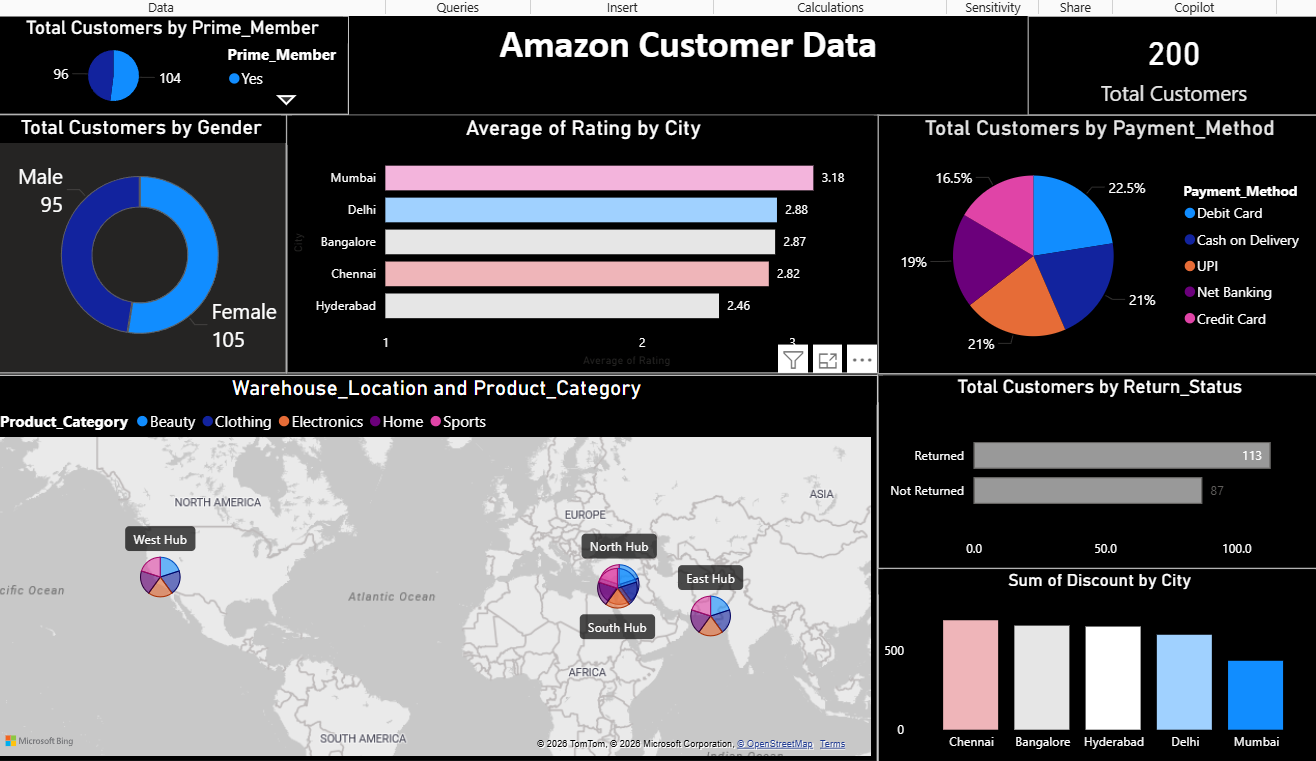

Layout of this report page (visuals, bound fields, positions):
{"tool":"powerbi","page":{"name":"Page 1","canvas":[1280,720],"ordinal":0},"visuals":[{"type":"textbox","box":[342.5,0,655,96.2],"z":0},{"type":"donutChart","fields":{"Category":["amazon_customer_dataset_200rows.Gender"],"Y":["amazon_customer_dataset_200rows.Total Customers"]},"box":[0,95.3,282.3,249.7],"z":1000},{"type":"card","fields":{"Values":["amazon_customer_dataset_200rows.Total Customers"]},"box":[997.1,0,282.9,95.7],"z":2000},{"type":"clusteredBarChart","fields":{"Category":["amazon_customer_dataset_200rows.City"],"Y":["Avg(amazon_customer_dataset_200rows.Rating)"]},"box":[282.3,95.3,571.9,249.7],"z":3000},{"type":"map","fields":{"Series":["amazon_customer_dataset_200rows.Product_Category"],"Category":["amazon_customer_dataset_200rows.Warehouse_Location"]},"box":[0,346.2,853,374],"z":4000},{"type":"pieChart","fields":{"Category":["amazon_customer_dataset_200rows.Payment_Method","amazon_customer_dataset_200rows.City"],"Y":["amazon_customer_dataset_200rows.Total Customers"]},"box":[852.9,95.7,427.1,250],"z":5000},{"type":"barChart","fields":{"Category":["amazon_customer_dataset_200rows.Return_Status"],"Y":["amazon_customer_dataset_200rows.Total Customers"]},"box":[853,346.2,427.1,187],"z":6000},{"type":"lineStackedColumnComboChart","fields":{"Category":["amazon_customer_dataset_200rows.City"],"Y":["Sum(amazon_customer_dataset_200rows.Discount)"]},"box":[853,533,427,187],"z":7000},{"type":"pieChart","fields":{"Y":["amazon_customer_dataset_200rows.Total Customers"],"Category":["amazon_customer_dataset_200rows.Prime_Member"]},"box":[0,0,342.5,95],"z":8000}]}

Visuals, with their boxes on the page's 1280x720 design canvas (x1, y1, x2, y2). These are canvas units, not pixel positions in the 1316x761 screenshot, which may show the page scaled, cropped or inside an application window:
textbox: bbox=[342, 0, 998, 96]
donutChart - amazon_customer_dataset_200rows.Gender x amazon_customer_dataset_200rows.Total Customers: bbox=[0, 95, 282, 345]
card - amazon_customer_dataset_200rows.Total Customers: bbox=[997, 0, 1280, 96]
clusteredBarChart - amazon_customer_dataset_200rows.City x Avg(amazon_customer_dataset_200rows.Rating): bbox=[282, 95, 854, 345]
map - amazon_customer_dataset_200rows.Product_Category x amazon_customer_dataset_200rows.Warehouse_Location: bbox=[0, 346, 853, 720]
pieChart - amazon_customer_dataset_200rows.Payment_Method x amazon_customer_dataset_200rows.City: bbox=[853, 96, 1280, 346]
barChart - amazon_customer_dataset_200rows.Return_Status x amazon_customer_dataset_200rows.Total Customers: bbox=[853, 346, 1280, 533]
lineStackedColumnComboChart - amazon_customer_dataset_200rows.City x Sum(amazon_customer_dataset_200rows.Discount): bbox=[853, 533, 1280, 720]
pieChart - amazon_customer_dataset_200rows.Total Customers x amazon_customer_dataset_200rows.Prime_Member: bbox=[0, 0, 342, 95]
